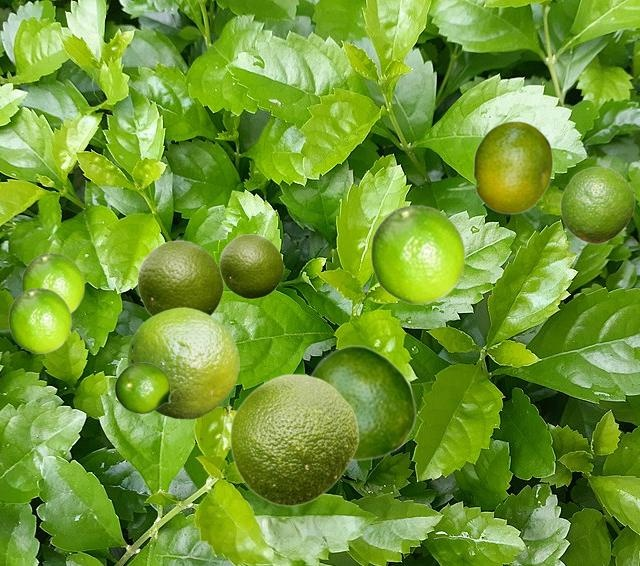calamansi: (229, 373, 358, 506), (127, 307, 238, 418), (310, 344, 416, 460), (446, 120, 552, 213), (370, 204, 465, 303), (137, 239, 223, 315), (560, 166, 634, 243), (219, 233, 283, 298), (8, 287, 71, 352), (21, 252, 84, 313), (114, 362, 176, 413)
